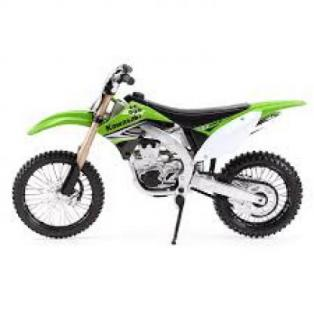Motocicleta: (11, 58, 310, 258)
